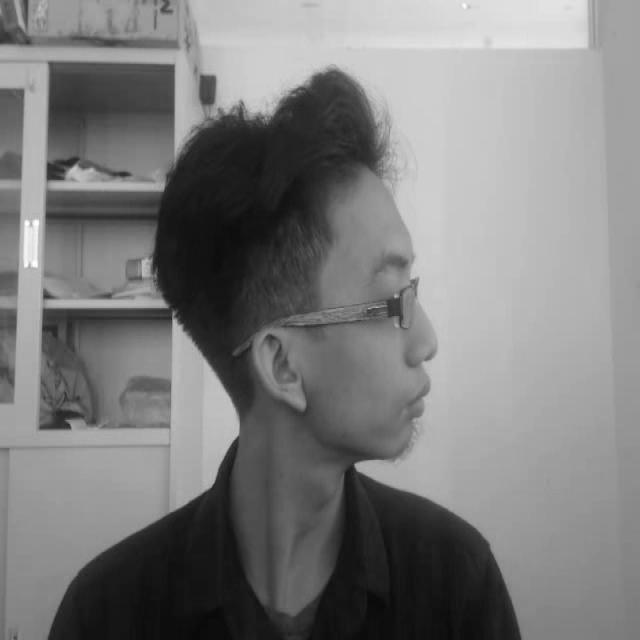real: (144, 52, 446, 492)
